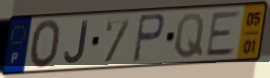7: (104, 16, 133, 65)
E: (203, 9, 243, 60)
J: (63, 19, 90, 66)
O: (28, 18, 62, 71)
P: (130, 12, 166, 65)
Q: (173, 11, 206, 60)
